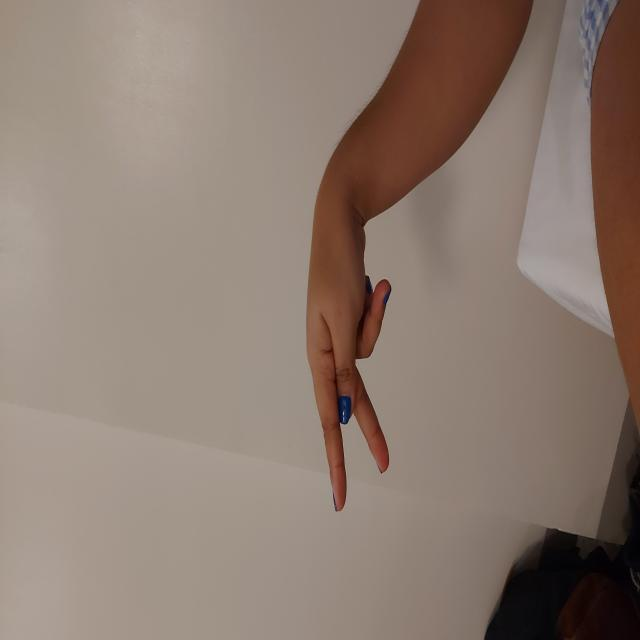P: (127, 304, 442, 392)
